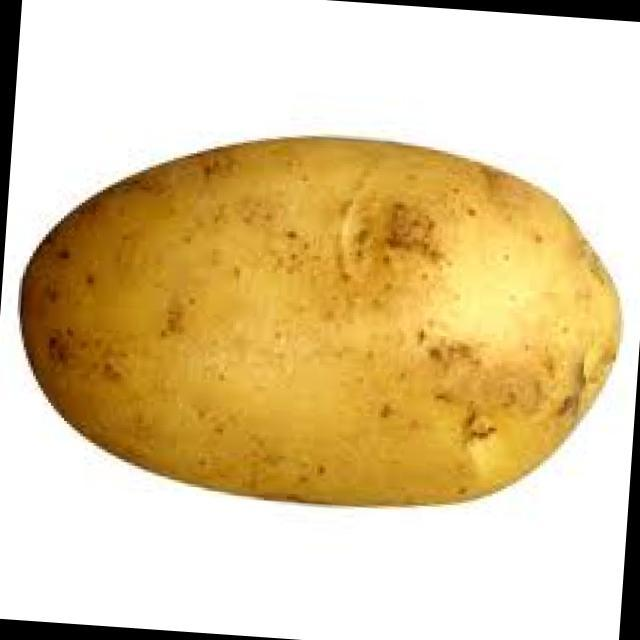Potato: (0, 86, 640, 550)
